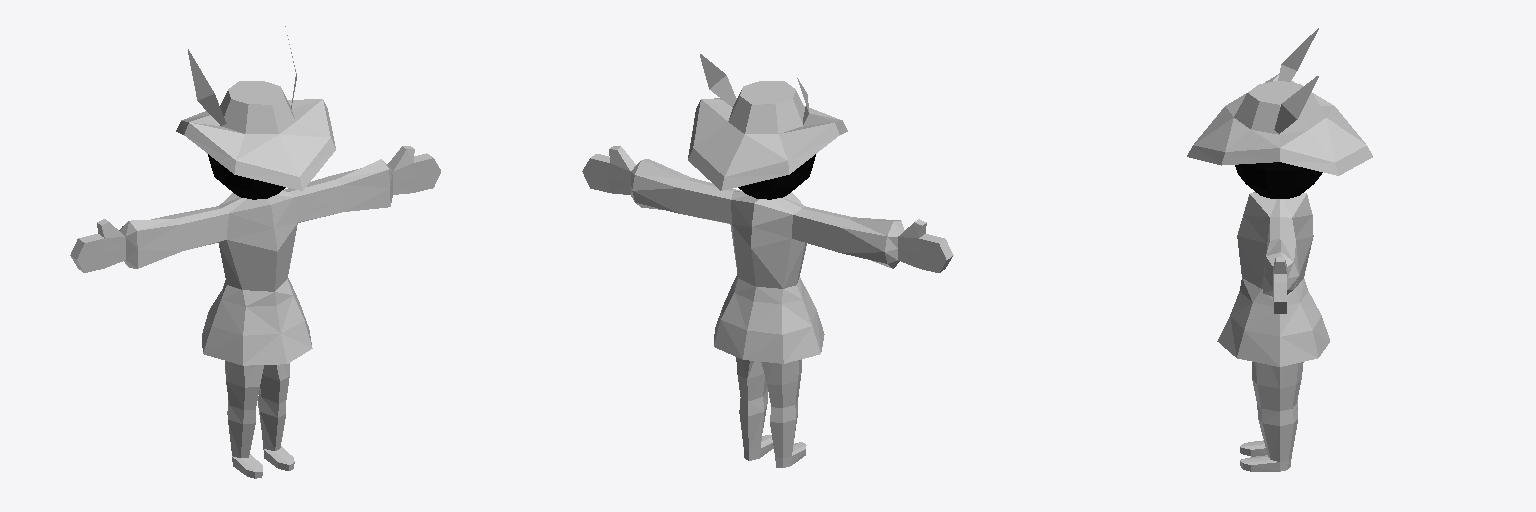
The model's file is Hunter.obj.
3 views of the same model, side by side, from view 1: azimuth 30°, elevation 25°; view 2: azimuth 150°, elevation 25°; view 3: azimuth 270°, elevation 25° (orthographic).
Parts seen in each view (by area): view 1: Hunter_Cube.001, HuntersHat_Plane; view 2: Hunter_Cube.001, HuntersHat_Plane; view 3: Hunter_Cube.001, HuntersHat_Plane.
Boxes of the visible parts, x1=… form: Hunter_Cube.001: x1=70, y1=146, x2=440, y2=478; HuntersHat_Plane: x1=176, y1=26, x2=335, y2=190; Hunter_Cube.001: x1=582, y1=146, x2=953, y2=467; HuntersHat_Plane: x1=688, y1=54, x2=847, y2=190; Hunter_Cube.001: x1=1217, y1=162, x2=1329, y2=471; HuntersHat_Plane: x1=1187, y1=28, x2=1372, y2=175.
Bounding box in the file's own units: 13.12 × 14.06 × 5.83.